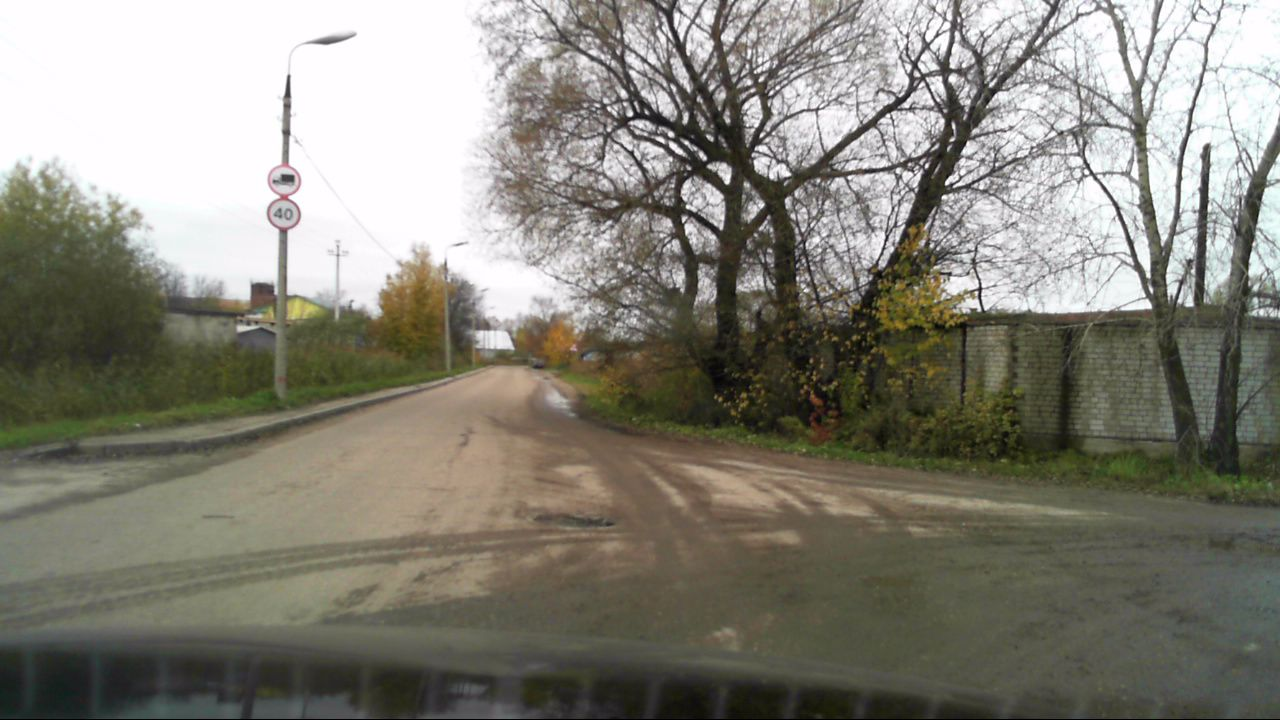speed_warning_40: (267, 199, 301, 230)
